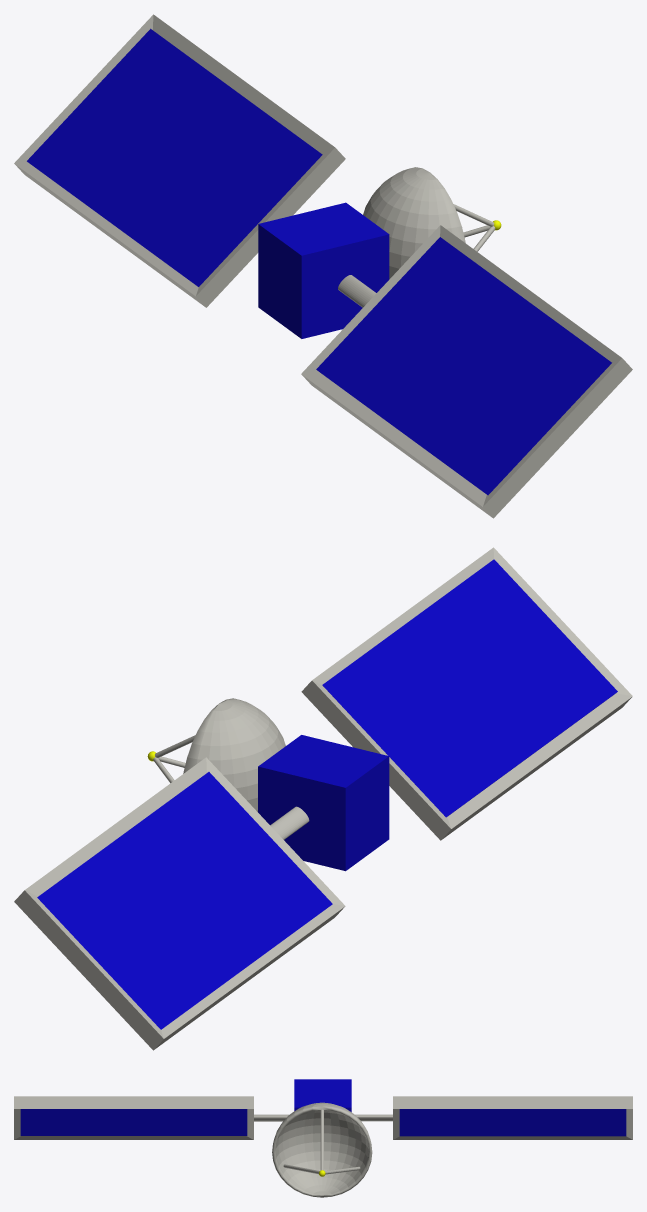
File: Obj_Space.fbx
3 renders of one model, top to bottom at view 1: azimuth 30°, elevation 25°; view 2: azimuth 150°, elevation 25°; view 3: azimuth 270°, elevation 25°, orthographic. The views are drawn at different scales.
Visible parts, largest first — view 1: 立方体; view 2: 立方体; view 3: 立方体.
Part boxes in pixels (x1=…): 立方体: x1=14, y1=14, x2=632, y2=518; 立方体: x1=14, y1=547, x2=632, y2=1050; 立方体: x1=14, y1=1079, x2=632, y2=1197.
Bounding box in the file's own units: 5.73 × 3 × 18.52.
